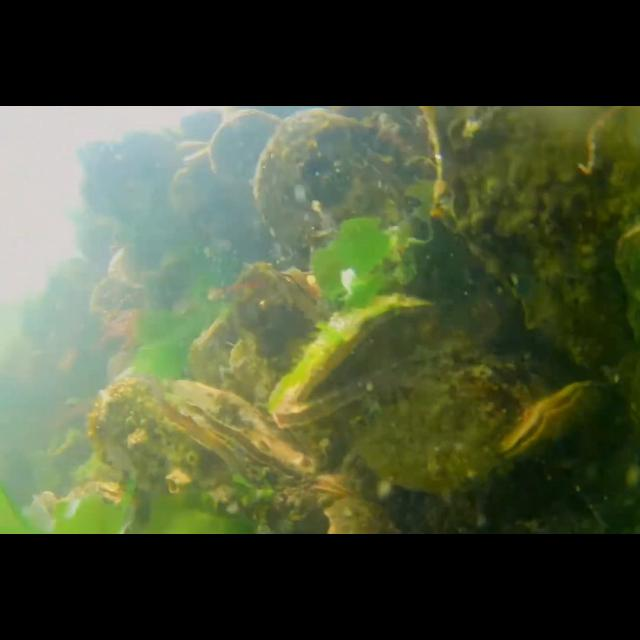Oyster-Closed: (424, 106, 640, 368), (252, 106, 422, 270), (232, 262, 334, 378), (208, 108, 290, 215)
Oyster-Open: (284, 345, 554, 501), (272, 294, 444, 420), (154, 378, 320, 494), (496, 372, 602, 463), (310, 470, 360, 504)
